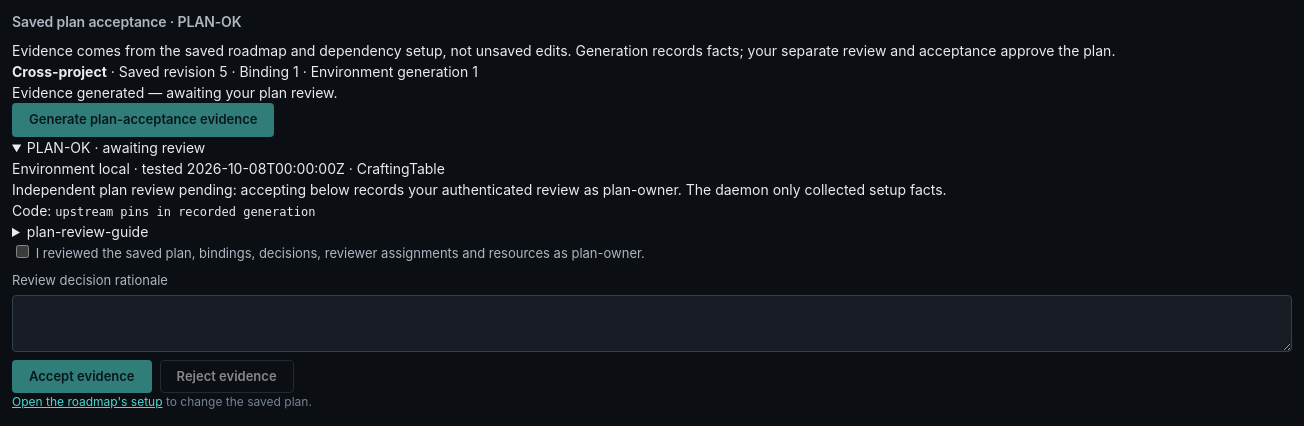
Test: reviews a generated plan in its item, not held by any setup beside it (review L4)
Click the checkbox labelled "I reviewed the saved plan" at (22, 251), box [16,245,29,258]
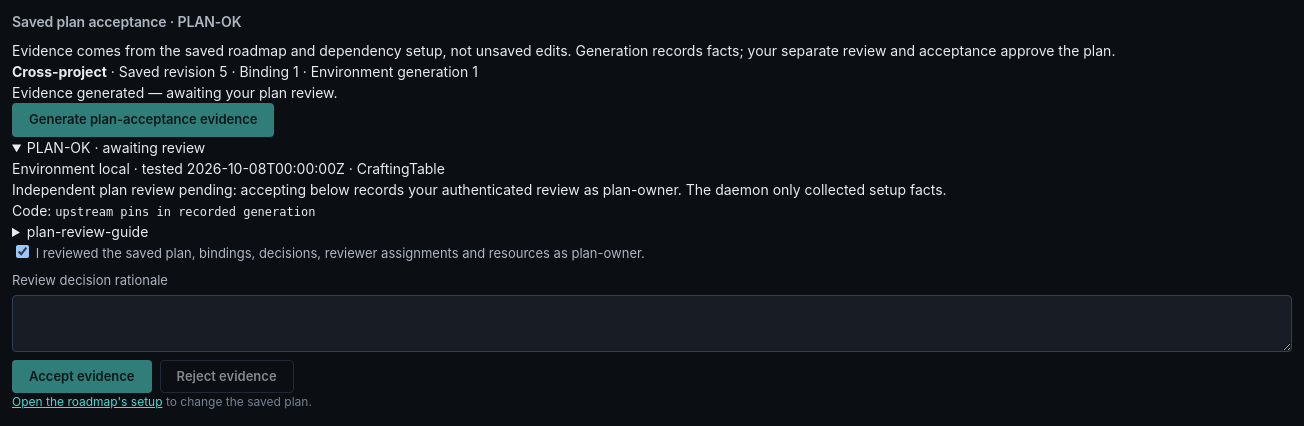
Type "Reviewed." into the text box labelled "Review decision rationale" at (652, 323), box [12,295,1292,352]
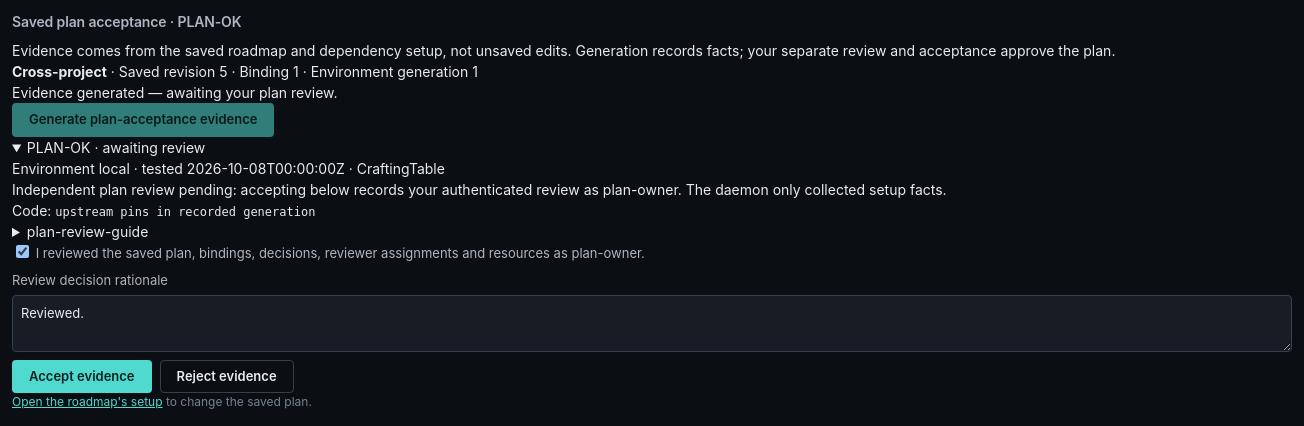
Expected: the button "Accept evidence" is enabled, [12,360,152,393]
